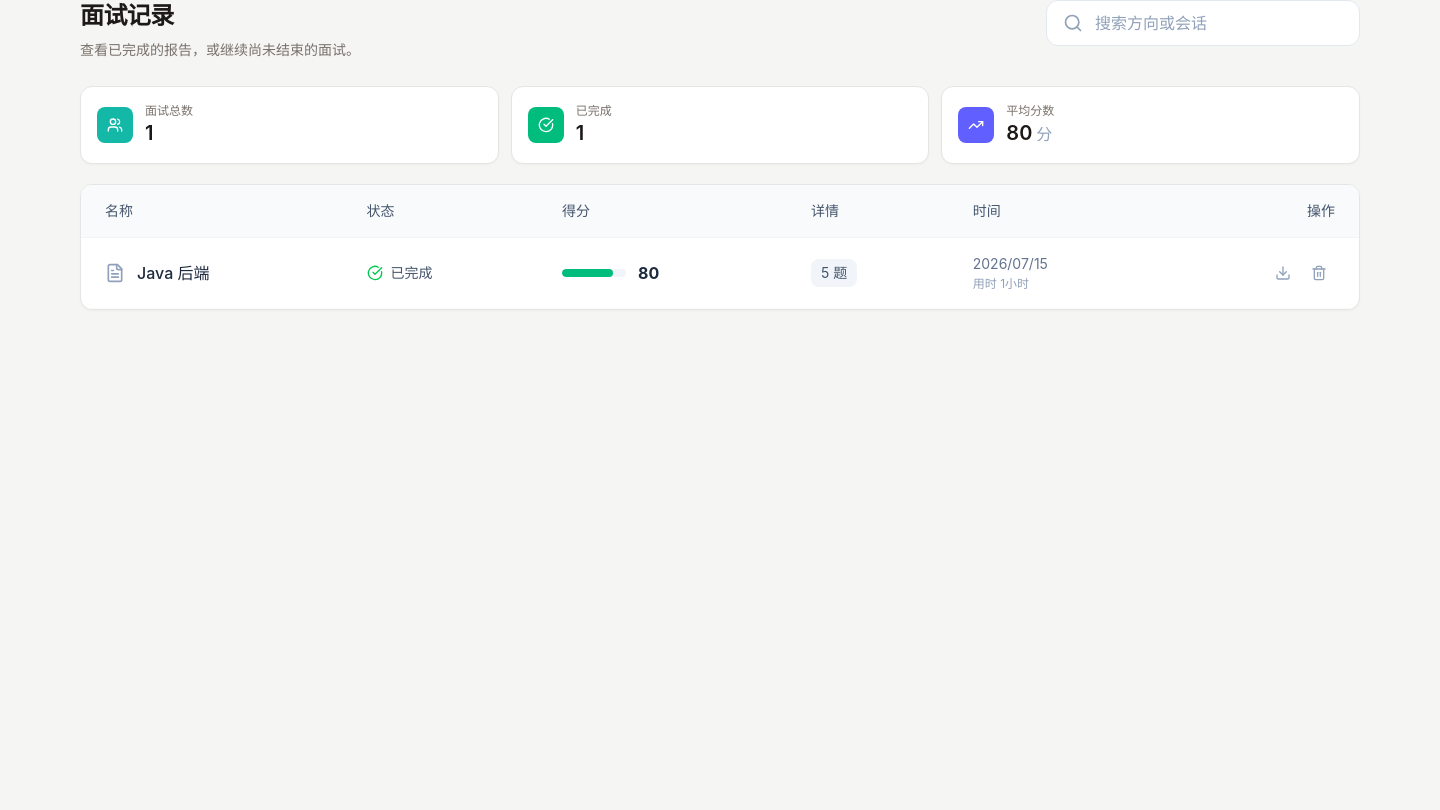
Test: InterviewHistoryPage › 删除失败时把错误留在确认框里
The width and height of the screenshot is (1440, 810).
Expected: the text "Java 后端" is shown, [137, 261, 210, 285]
What coordinates should you click on to do the following:
click the button named "删除面试记录 Java 后端"
I would click on:
 (1319, 273)
Its box is [1303, 257, 1335, 289].
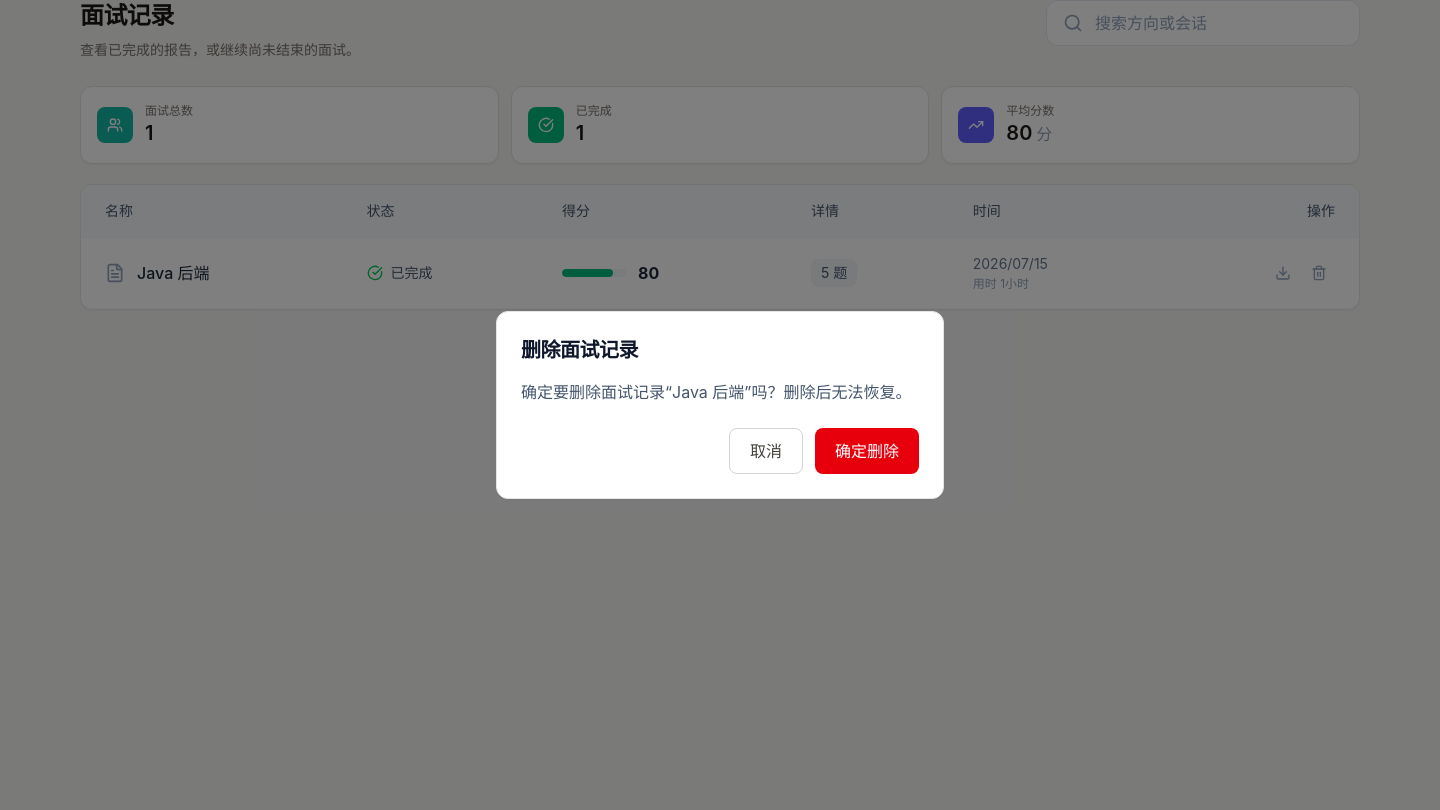
What coordinates should you click on to do the following:
click the button "确定删除"
I would click on:
 (867, 451)
Its box is [815, 428, 919, 474].
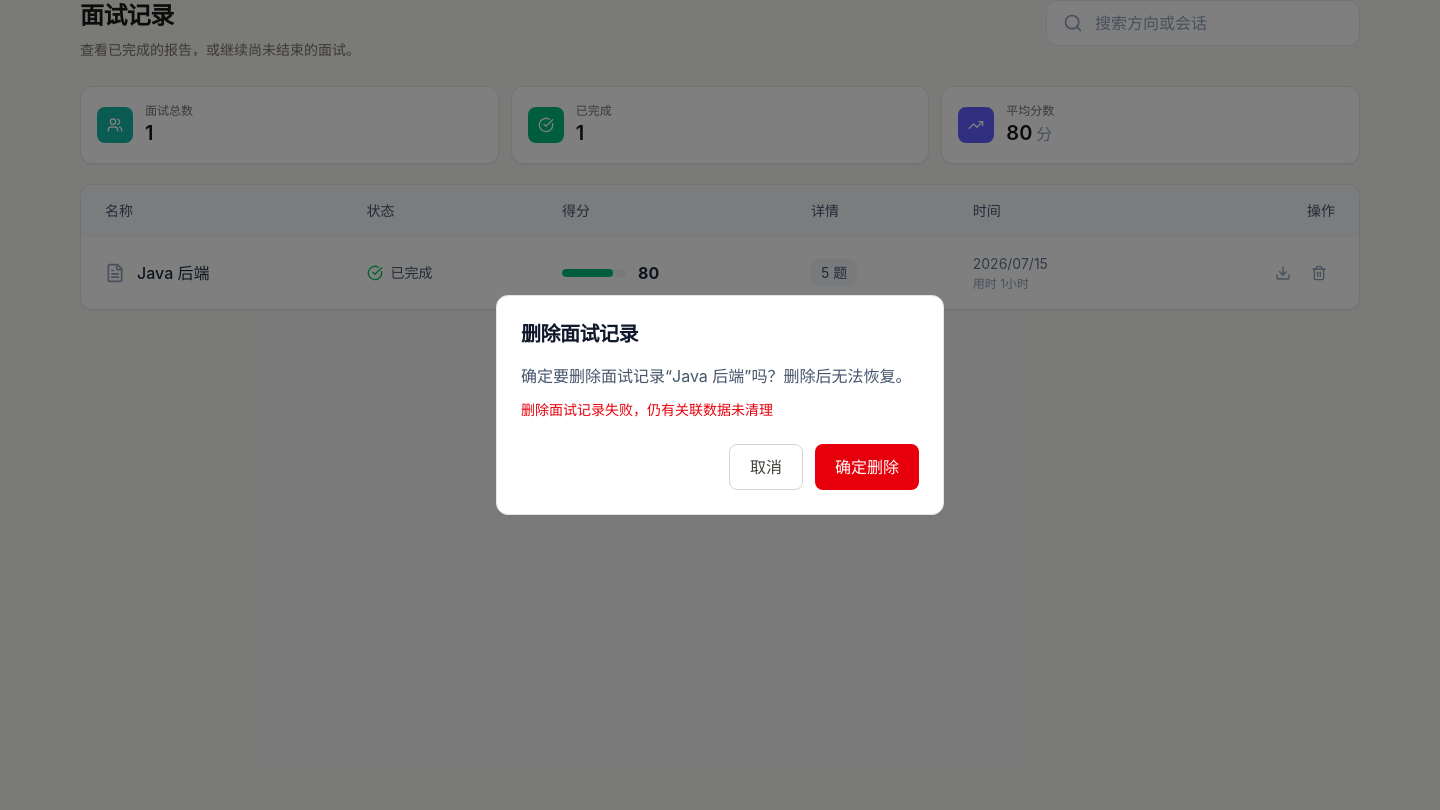
Expected: the text "Java 后端" is shown, [137, 261, 210, 285]
Now the message reads "删除面试记录失败，仍有关联数据未清理", box [521, 401, 773, 418]
